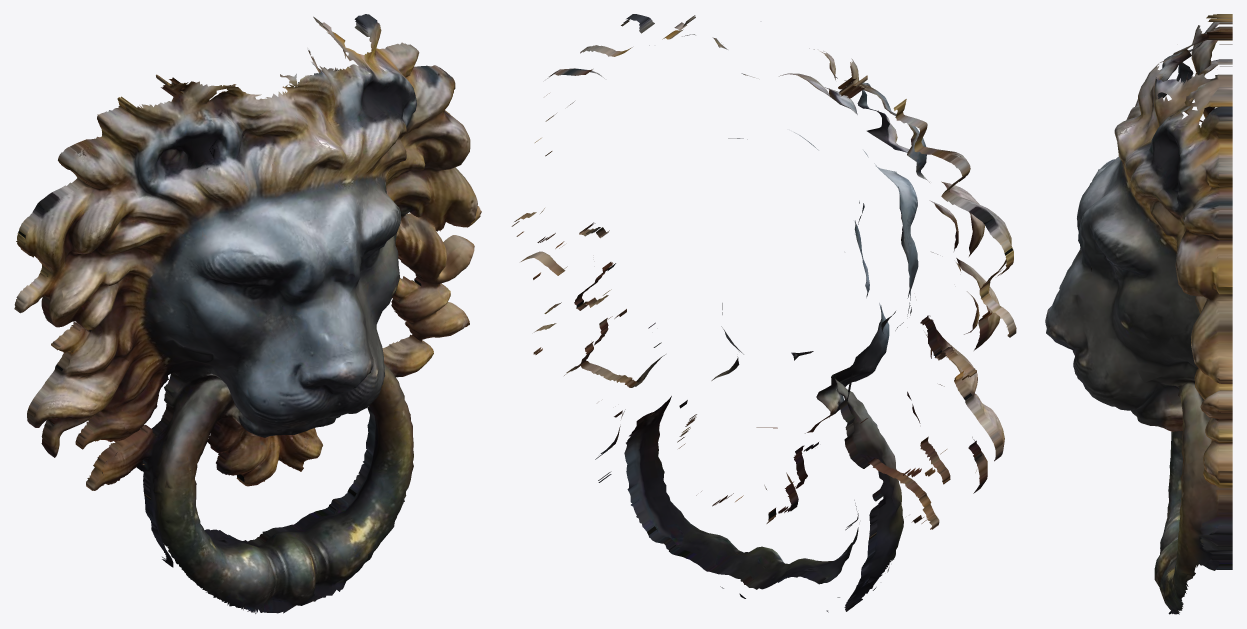
File: lion-knocker.glb
3 renders of one model, left to right at view 1: azimuth 30°, elevation 25°; view 2: azimuth 150°, elevation 25°; view 3: azimuth 270°, elevation 25°, orthographic. The views are drawn at different scales.
Visible parts, largest first — view 1: lion-knocker; view 2: lion-knocker; view 3: lion-knocker.
Part boxes in pixels (x1,y1,x2,y2): lion-knocker: (14,14,481,613); lion-knocker: (511,14,1016,612); lion-knocker: (1045,14,1232,614).
Size of the model in its own units: 0.2341 by 0.2698 by 0.0835.
Materials: 1 (1 with a texture image).
